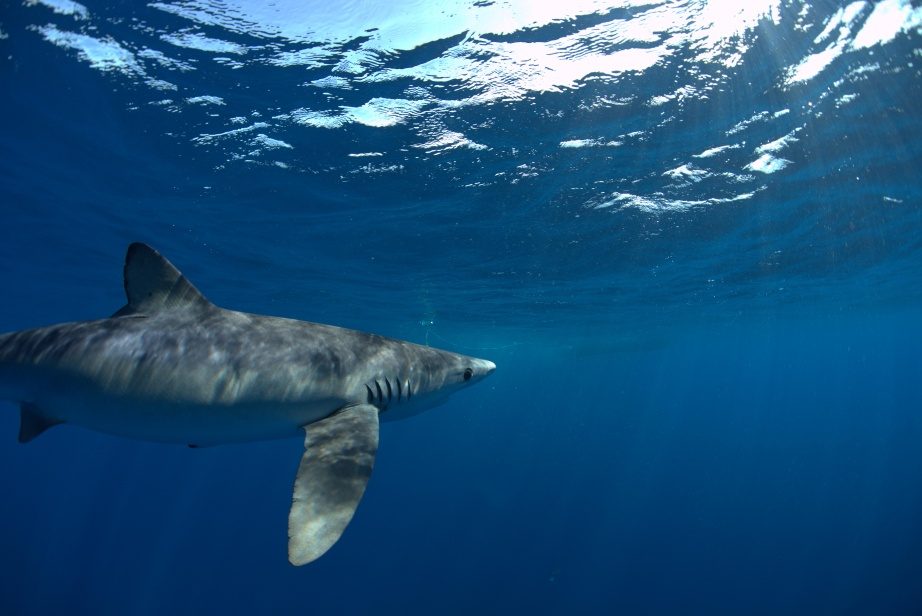Azul: (1, 235, 560, 554)
